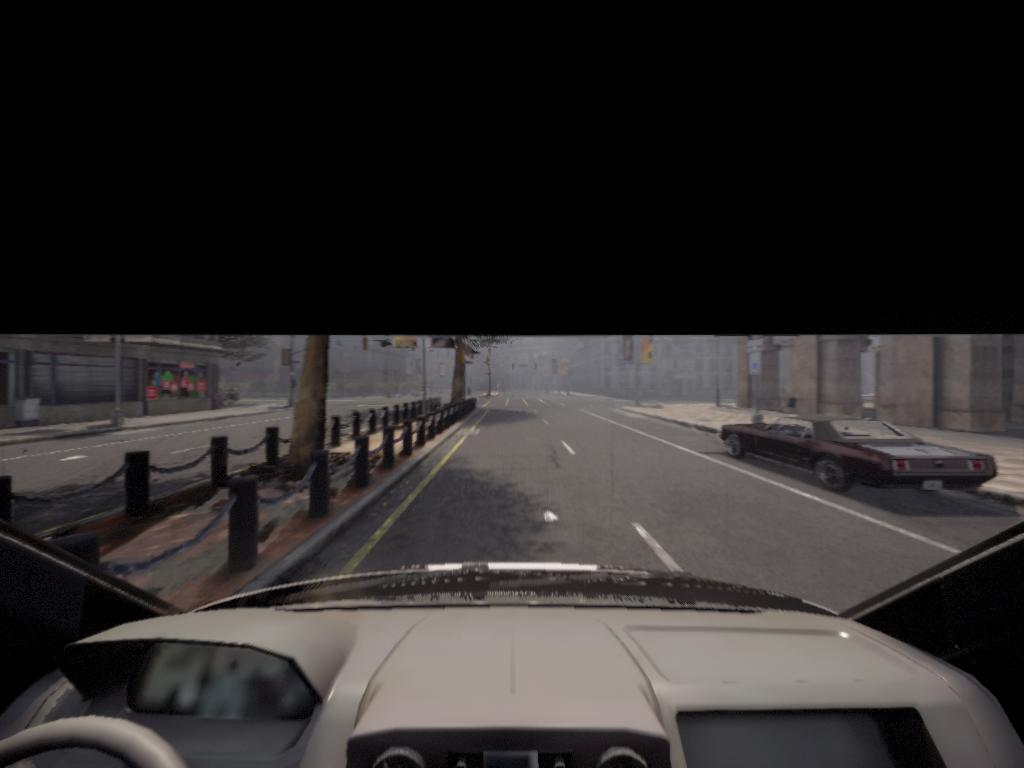traffic_light: (361, 336, 371, 354), (512, 363, 518, 373), (535, 364, 538, 373)
